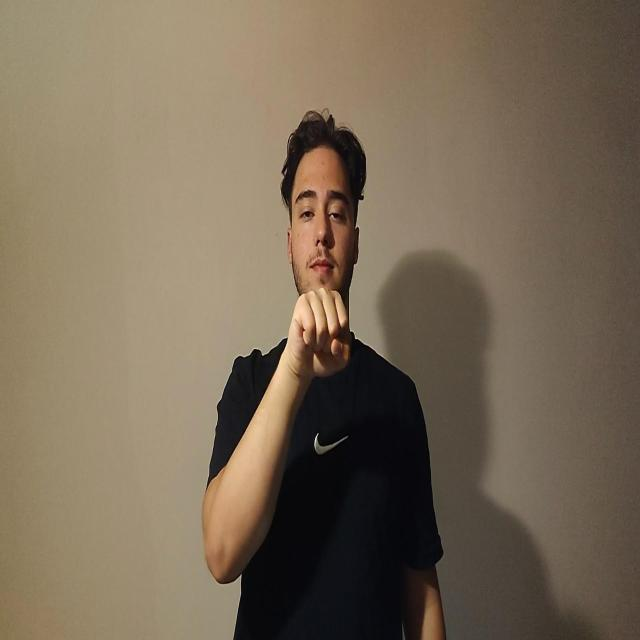yes: (286, 285, 352, 381)
